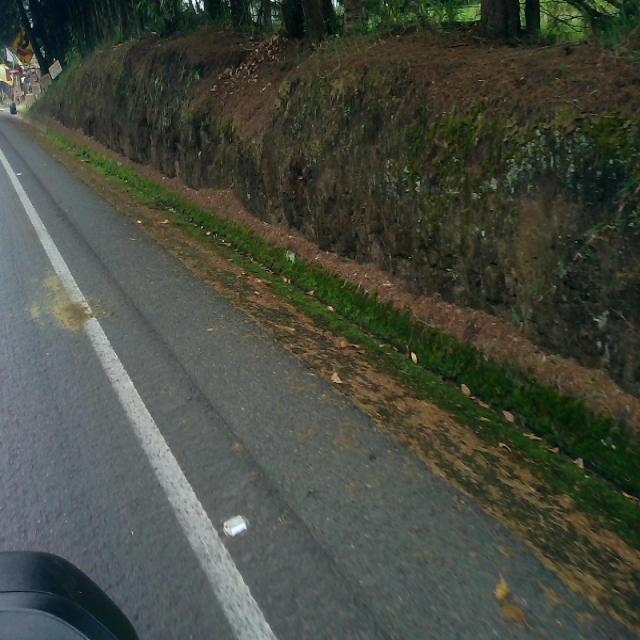DITCH: (2, 109, 638, 638)
